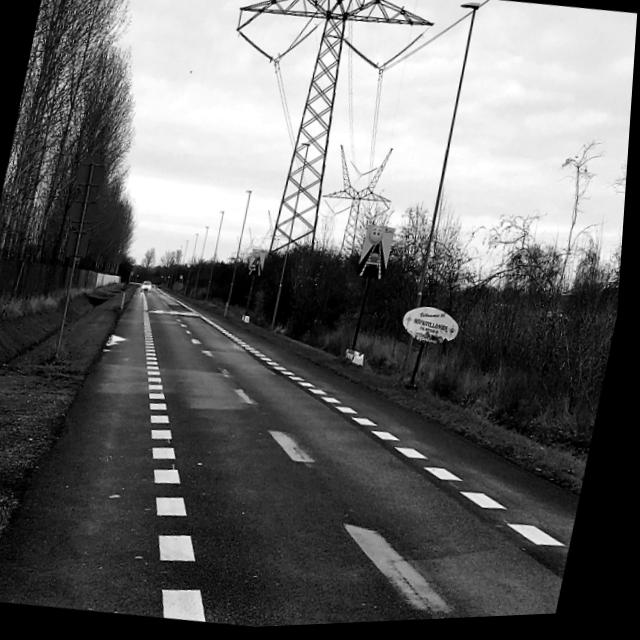cleat: (20, 223, 624, 630)
